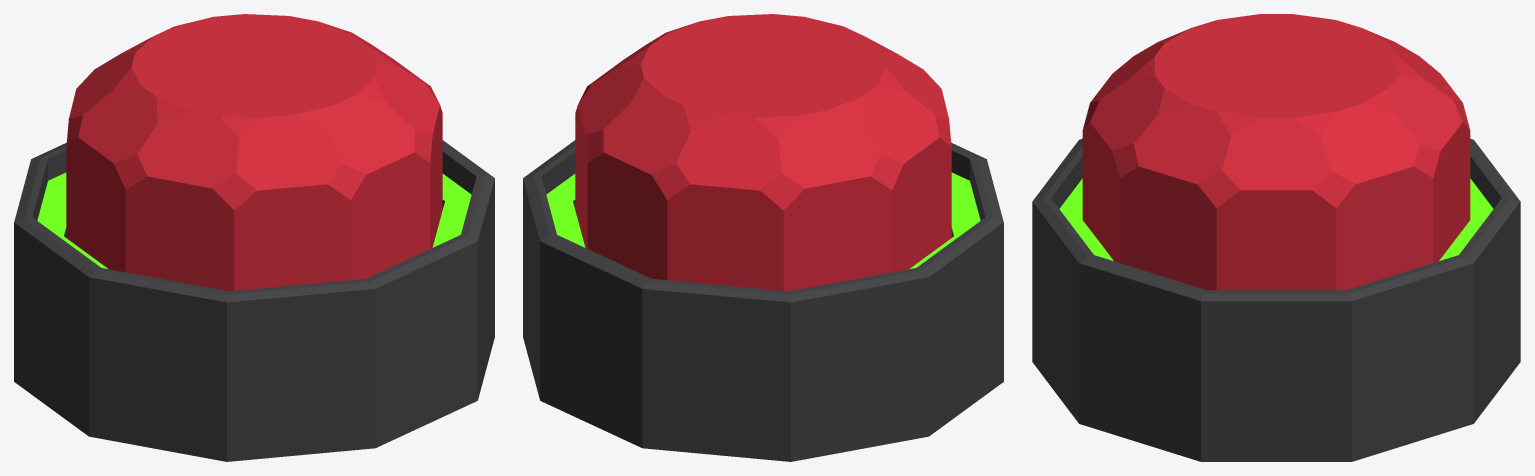
File: ReactorButton.fbx
The picture shows the model from 3 angles, left to right: view 1: azimuth 30°, elevation 25°; view 2: azimuth 150°, elevation 25°; view 3: azimuth 270°, elevation 25°; orthographic projection.
Parts seen in each view (by area): view 1: Cylinder.001, Cylinder; view 2: Cylinder.001, Cylinder; view 3: Cylinder.001, Cylinder.
Boxes of the visible parts, x1,y1,x2,y2 form: Cylinder.001: (14,140,494,461); Cylinder: (66,14,442,291); Cylinder.001: (523,140,1003,461); Cylinder: (575,14,951,291); Cylinder.001: (1032,138,1520,461); Cylinder: (1082,14,1470,290).
Size of the model in its own units: 244 by 169 by 252.
